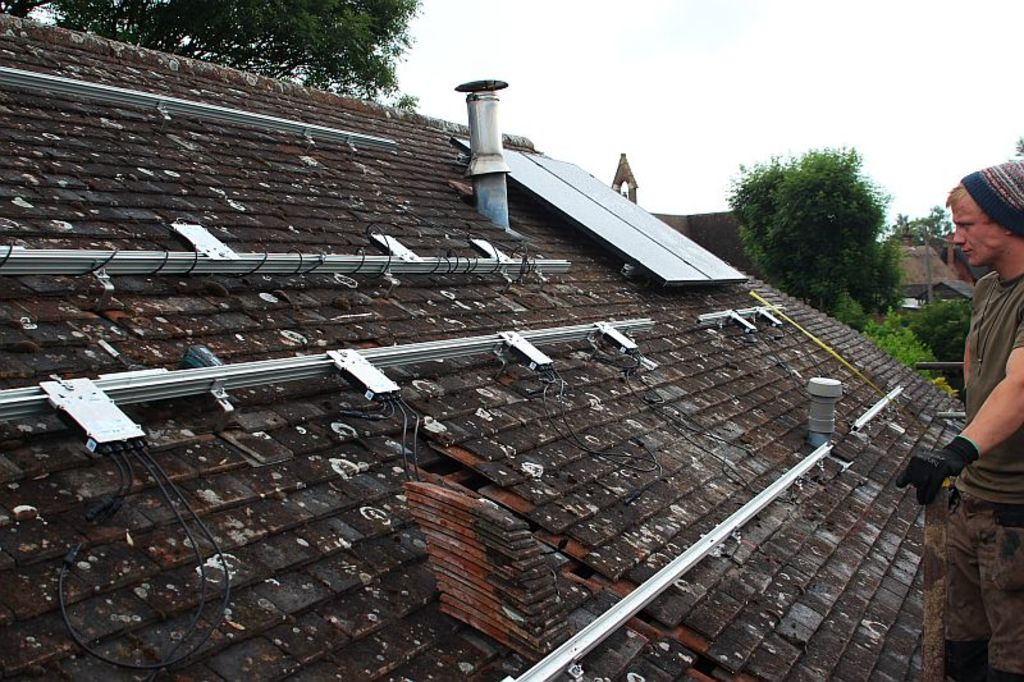Person: (895, 160, 1024, 682)
